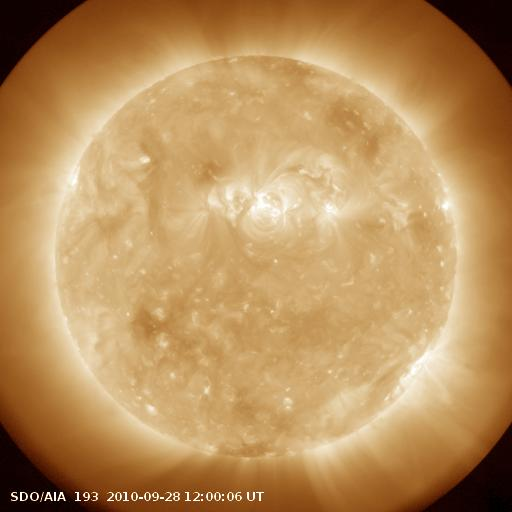coronal_hole: (325, 97, 384, 165)
